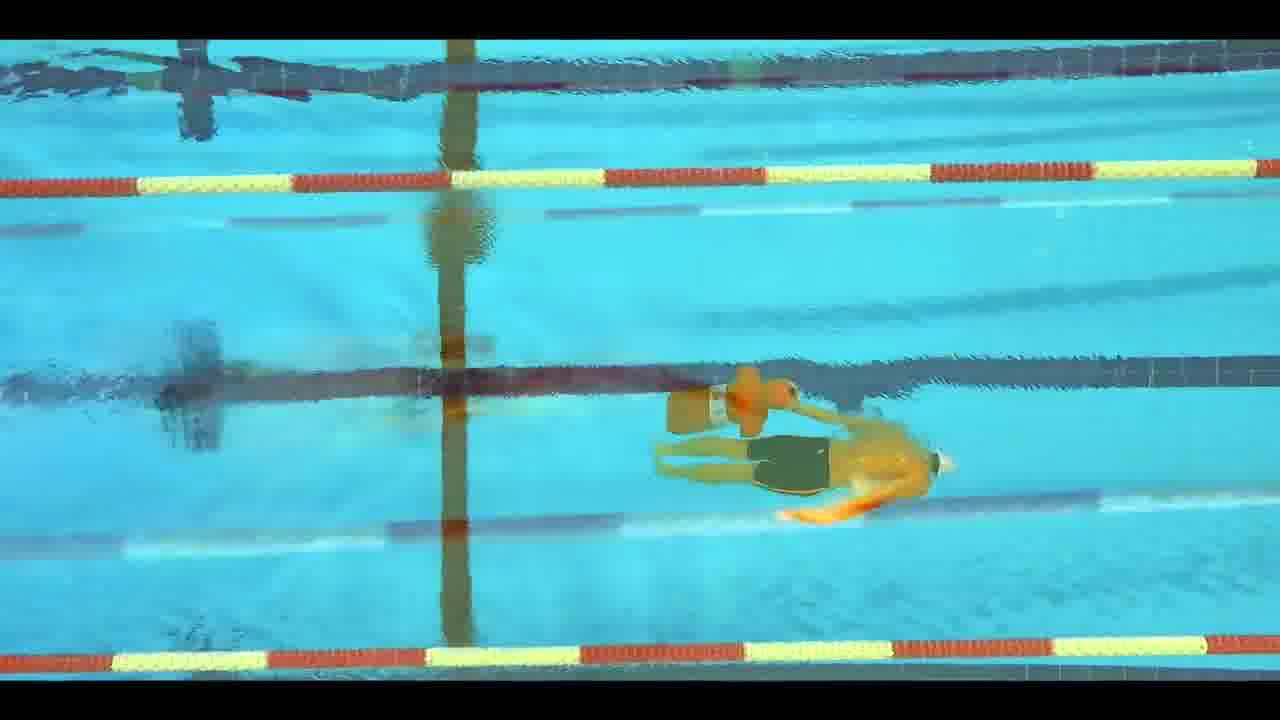swimmer: (666, 406, 947, 521)
